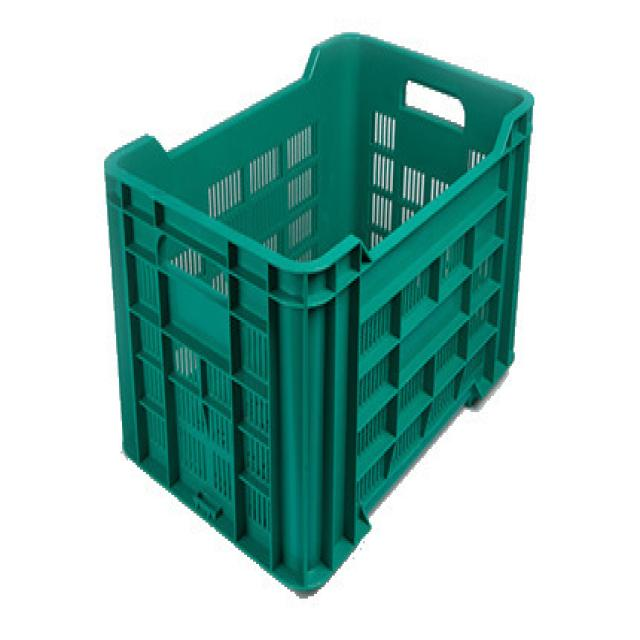basket: (72, 16, 540, 605)
